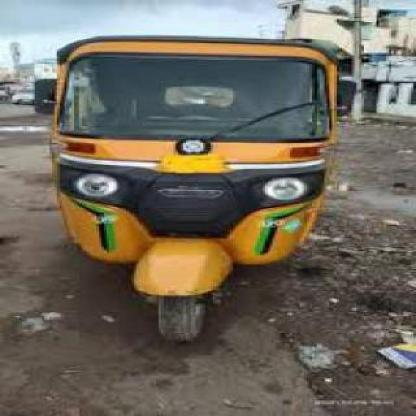auto-rikshaw: (48, 42, 348, 334)
